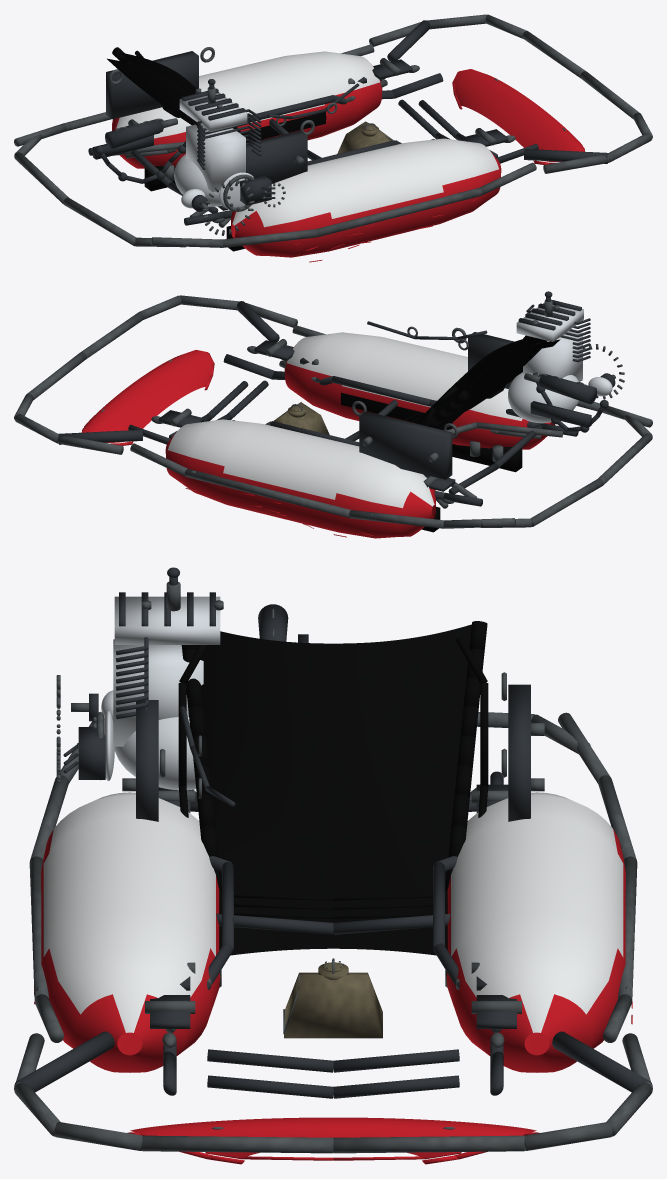
File: SM_V4_Chassis.fbx
3 renders of one model, top to bottom at view 1: azimuth 30°, elevation 25°; view 2: azimuth 150°, elevation 25°; view 3: azimuth 270°, elevation 25°, orthographic. The views are drawn at different scales.
Parts seen in each view (by area): view 1: SM_V4_Chassis; view 2: SM_V4_Chassis; view 3: SM_V4_Chassis.
Part boxes in pixels (left/top/right/bottom): SM_V4_Chassis: left=14, top=14, right=652, bottom=262; SM_V4_Chassis: left=14, top=291, right=652, bottom=538; SM_V4_Chassis: left=14, top=567, right=652, bottom=1164.
Bounding box in the file's own units: 207 × 127 × 67.57.
